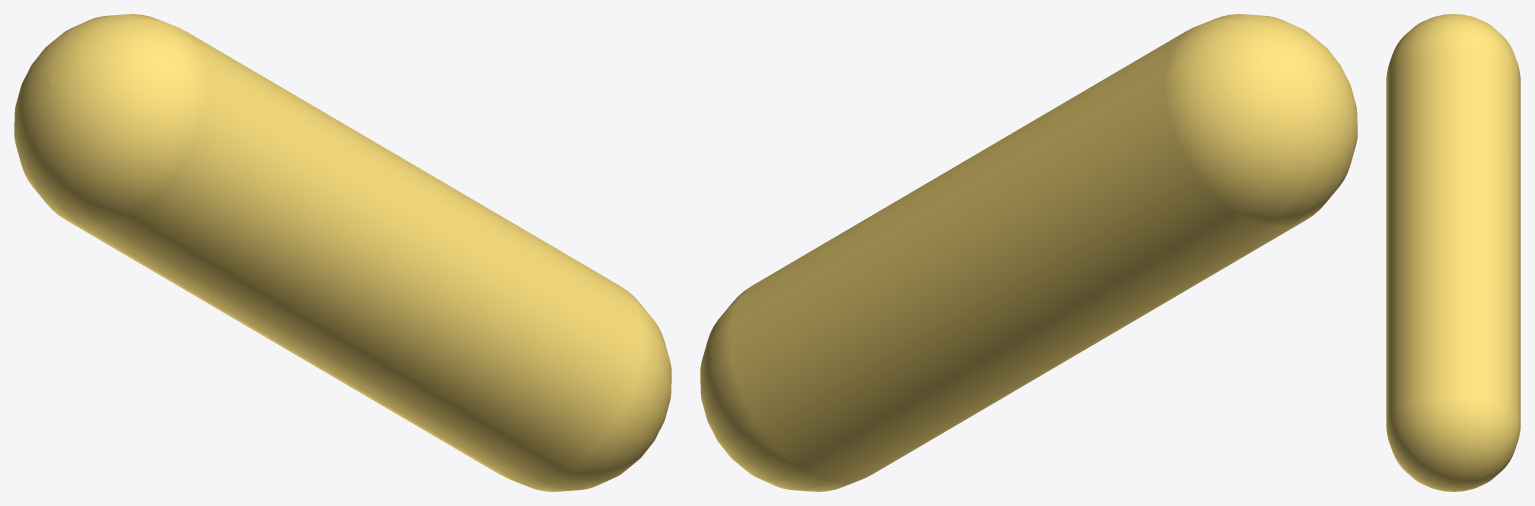
File: saba.glb
The picture shows the model from 3 angles, left to right: view 1: azimuth 30°, elevation 25°; view 2: azimuth 150°, elevation 25°; view 3: azimuth 270°, elevation 25°; orthographic projection. The views are drawn at different scales.
Bounding box in the file's own units: 1.81 × 1.55 × 0.56.
